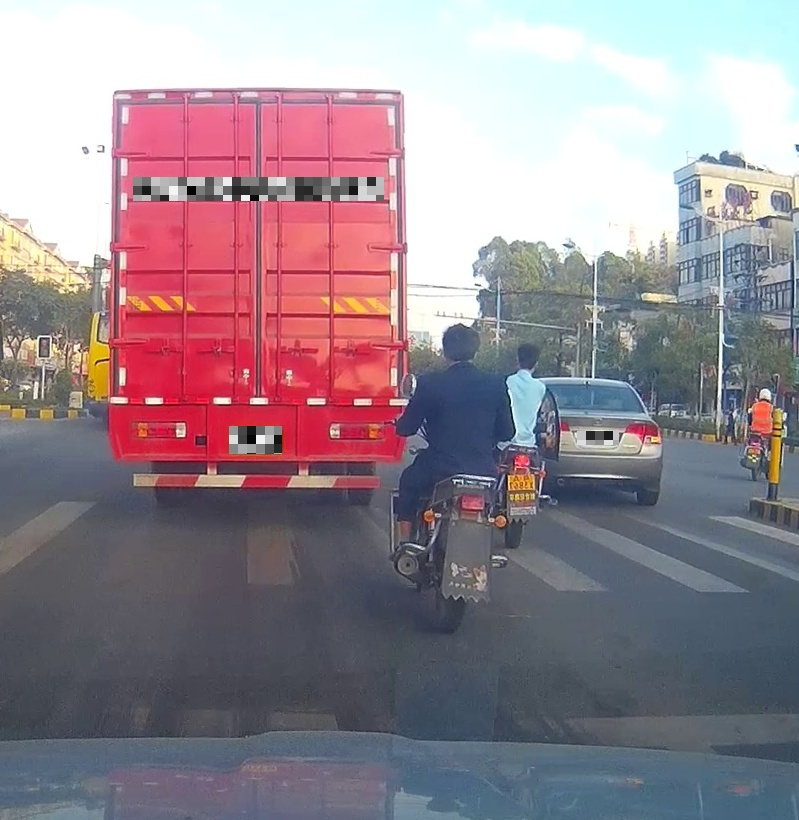L_light: (129, 420, 187, 440), (532, 417, 570, 440)
R_light: (328, 422, 387, 440), (624, 419, 661, 446)
T_light: (239, 97, 278, 111), (580, 385, 597, 390)
day-no: (107, 87, 409, 504)
day-right: (530, 377, 663, 505)
plate_1: (133, 177, 384, 201)
plate_2: (229, 426, 282, 454)
plate_3: (577, 431, 619, 445)
